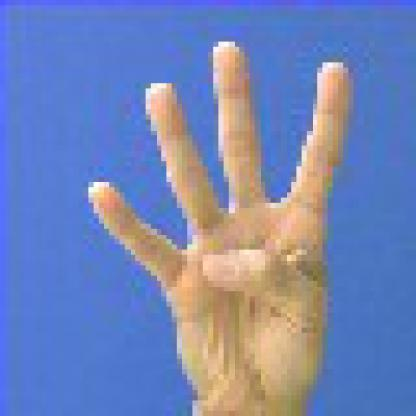four: (80, 35, 370, 415)
